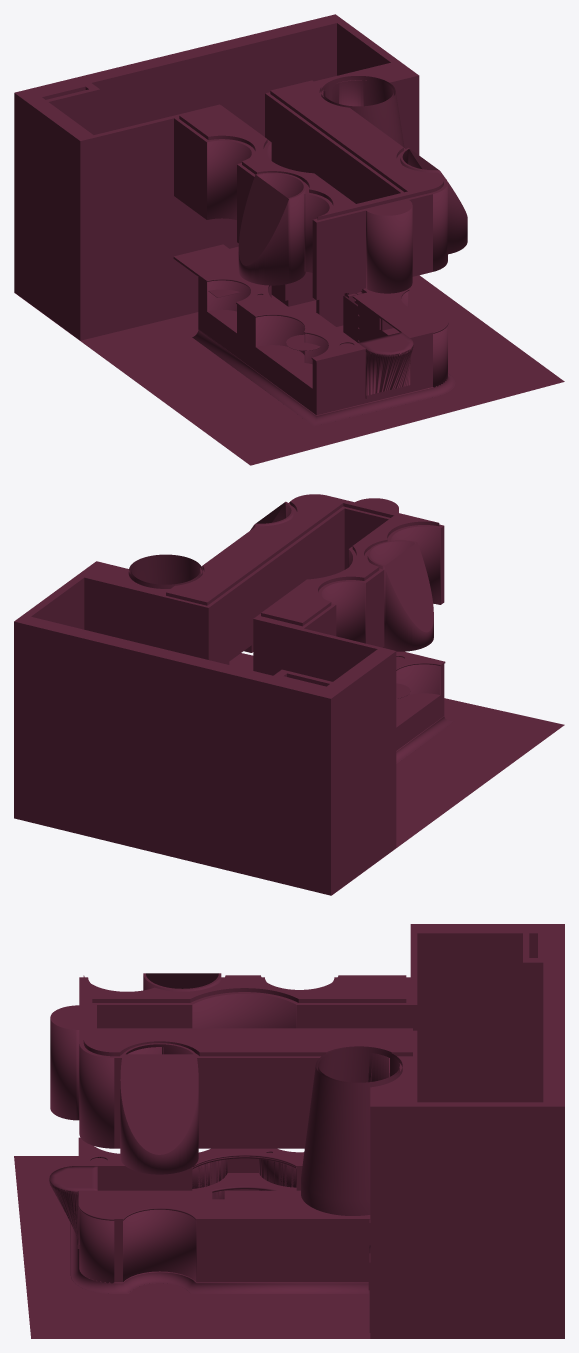
The model's file is asset.glb.
3 renders of one model, top to bottom at view 1: azimuth 30°, elevation 25°; view 2: azimuth 150°, elevation 25°; view 3: azimuth 270°, elevation 25°, orthographic. The views are drawn at different scales.
Visible parts, largest first — view 1: MC_Structure, G-__556320, Sketchup, G-__556257, G-__556347, G-__556275, G-__556311, G-__556356, G-__556365, G-__556284, G-__556302, G-__556338 (+1 smaller); view 2: MC_Structure, G-__556320, Sketchup, G-__556275, G-__556257, G-__556338, G-__556347, G-__556365, G-__556356, G-__556311, G-__556266; view 3: MC_Structure, G-__556320, Sketchup, G-__556347, G-__556365, G-__556266, G-__556311, G-__556302, G-__556356, G-__556284, G-__556338, G-__556275 (+1 smaller).
Part boxes in pixels (box(x1,y1,x2,y2)): MC_Structure: box(14, 14, 419, 340); G-__556320: box(174, 80, 447, 300); Sketchup: box(14, 200, 564, 465); G-__556257: box(94, 104, 222, 336); G-__556347: box(198, 276, 447, 415); G-__556275: box(238, 172, 305, 285); G-__556311: box(173, 244, 448, 362); G-__556356: box(192, 329, 455, 426); G-__556365: box(321, 76, 404, 147); G-__556284: box(358, 332, 413, 398); G-__556302: box(258, 272, 399, 347); G-__556338: box(314, 62, 411, 149); MC_Structure: box(14, 561, 396, 895); G-__556320: box(161, 494, 444, 664); Sketchup: box(229, 498, 564, 895); G-__556275: box(367, 540, 433, 651); G-__556257: box(253, 617, 379, 681); G-__556338: box(84, 563, 169, 648); G-__556347: box(396, 664, 444, 750); G-__556365: box(128, 554, 202, 588); G-__556356: box(396, 716, 453, 763); G-__556311: box(246, 651, 445, 670); G-__556266: box(250, 501, 293, 530); MC_Structure: box(370, 924, 564, 1338); G-__556320: box(79, 975, 417, 1148); Sketchup: box(14, 1005, 370, 1338); G-__556347: box(79, 1159, 369, 1290); G-__556365: box(301, 1047, 402, 1215); G-__556266: box(120, 1043, 198, 1174); G-__556311: box(78, 1137, 370, 1220); G-__556302: box(90, 1152, 302, 1199); G-__556356: box(70, 1223, 368, 1293); G-__556284: box(49, 1166, 97, 1248); G-__556338: box(370, 1058, 417, 1102); G-__556275: box(143, 973, 221, 991).
Size of the model in its own units: 4.98 by 3 by 6.34.
